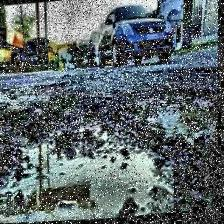pothole: (0, 67, 220, 224)
